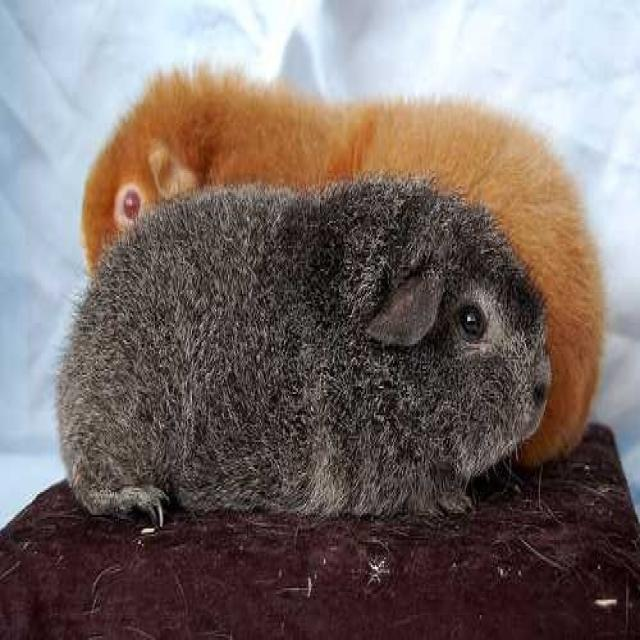guinea pig: (56, 186, 548, 532), (79, 76, 586, 260)
